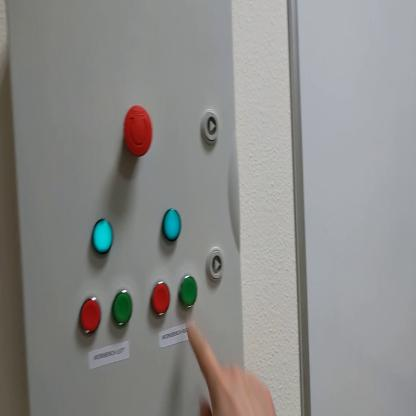hand: (187, 324, 277, 416)
left green button: (112, 293, 136, 330)
left red button: (80, 298, 102, 336)
right green button: (179, 277, 199, 310)
right red button: (151, 282, 172, 320)
